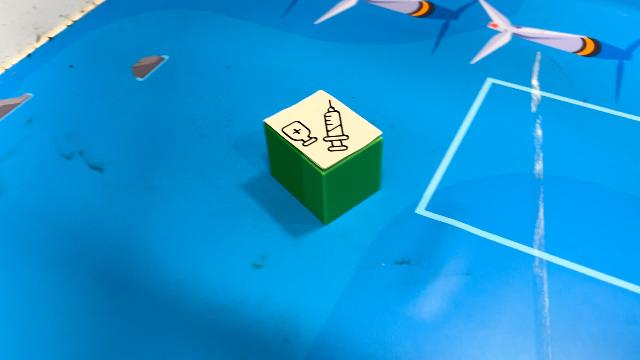syringe: (261, 88, 385, 226)
